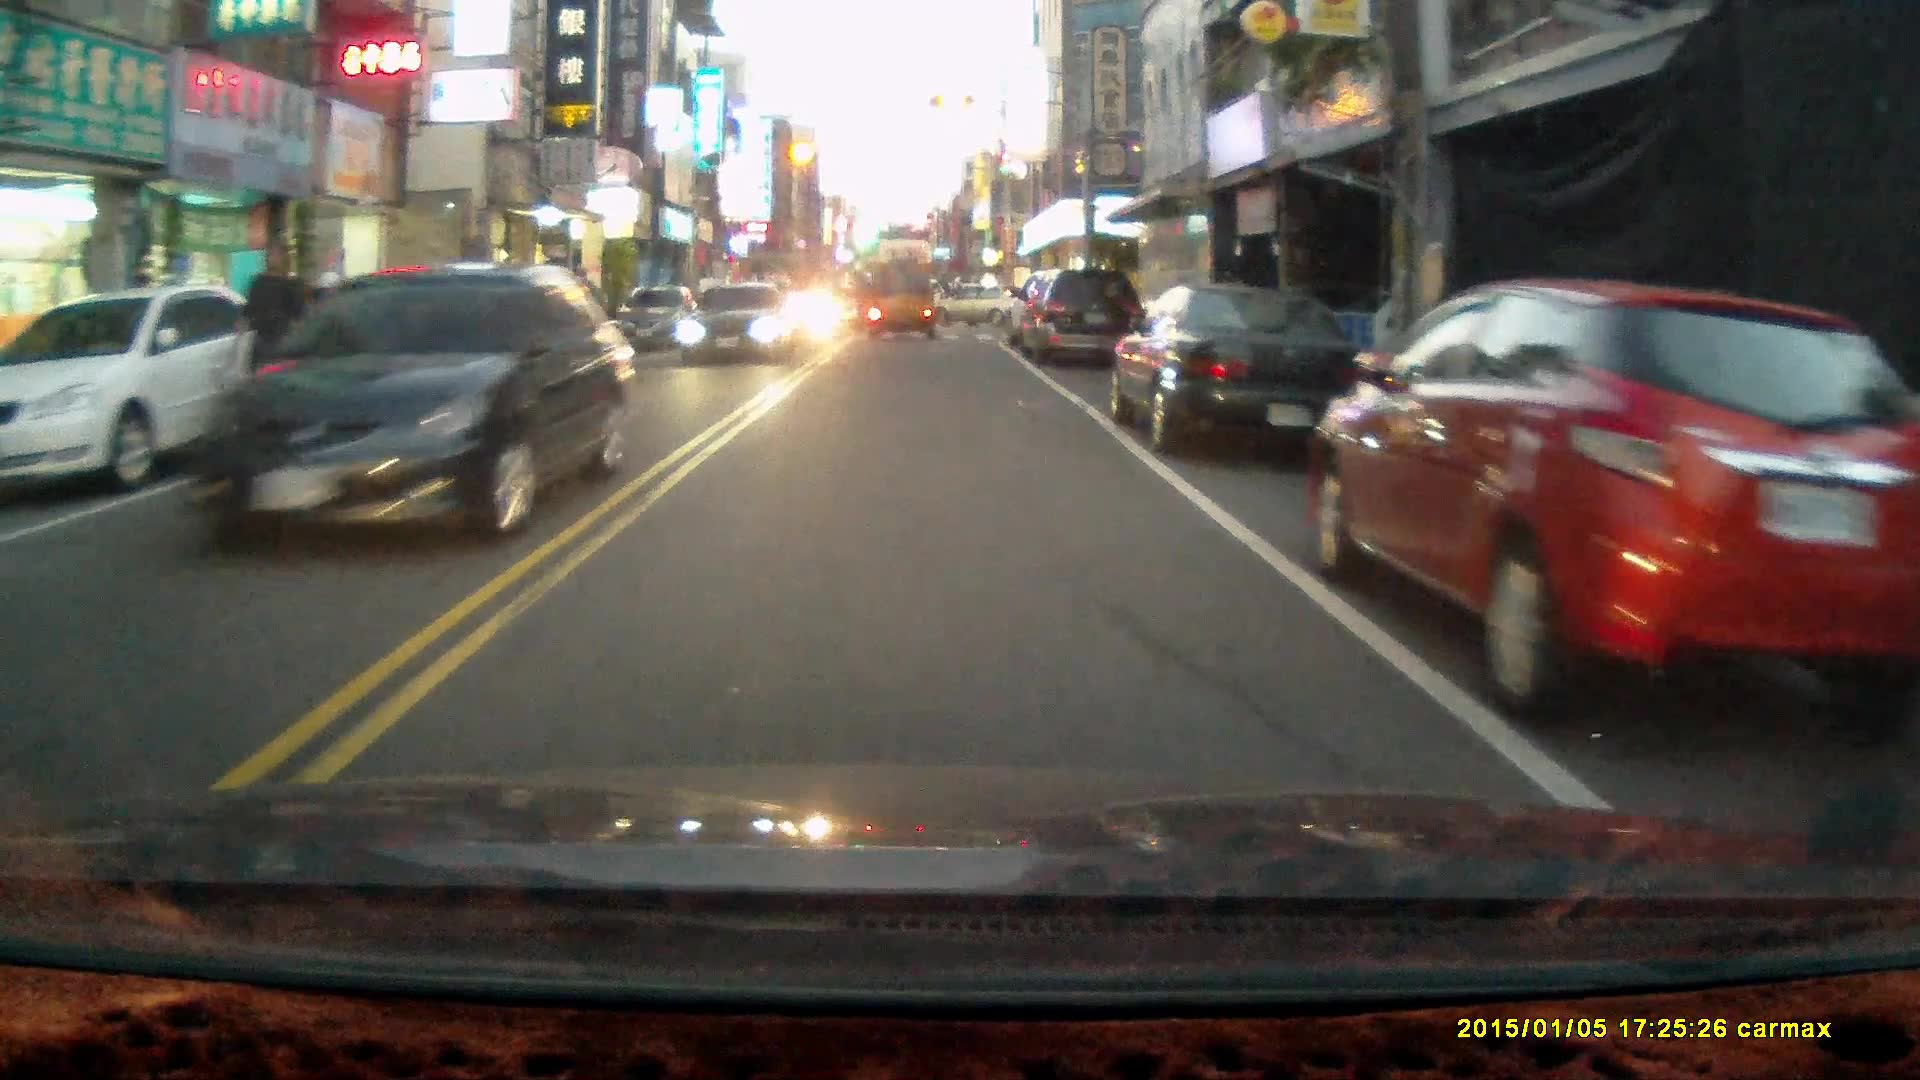pedestrian: (230, 239, 308, 430)
vehicle: (1315, 279, 1920, 729), (195, 265, 638, 550), (1108, 282, 1382, 458), (1015, 268, 1149, 369), (682, 285, 795, 371), (607, 288, 702, 352), (868, 261, 940, 343)
